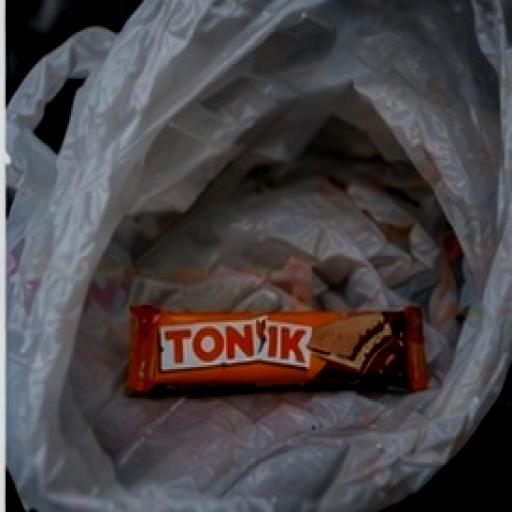tonik: (55, 244, 469, 478)
